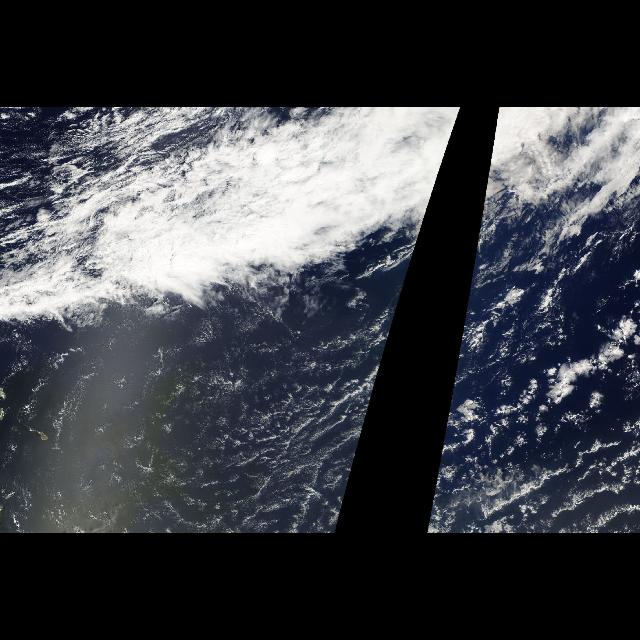Fish: (9, 107, 464, 327), (461, 107, 639, 327)
Flower: (450, 291, 638, 523)
Sugar: (11, 322, 393, 532)
